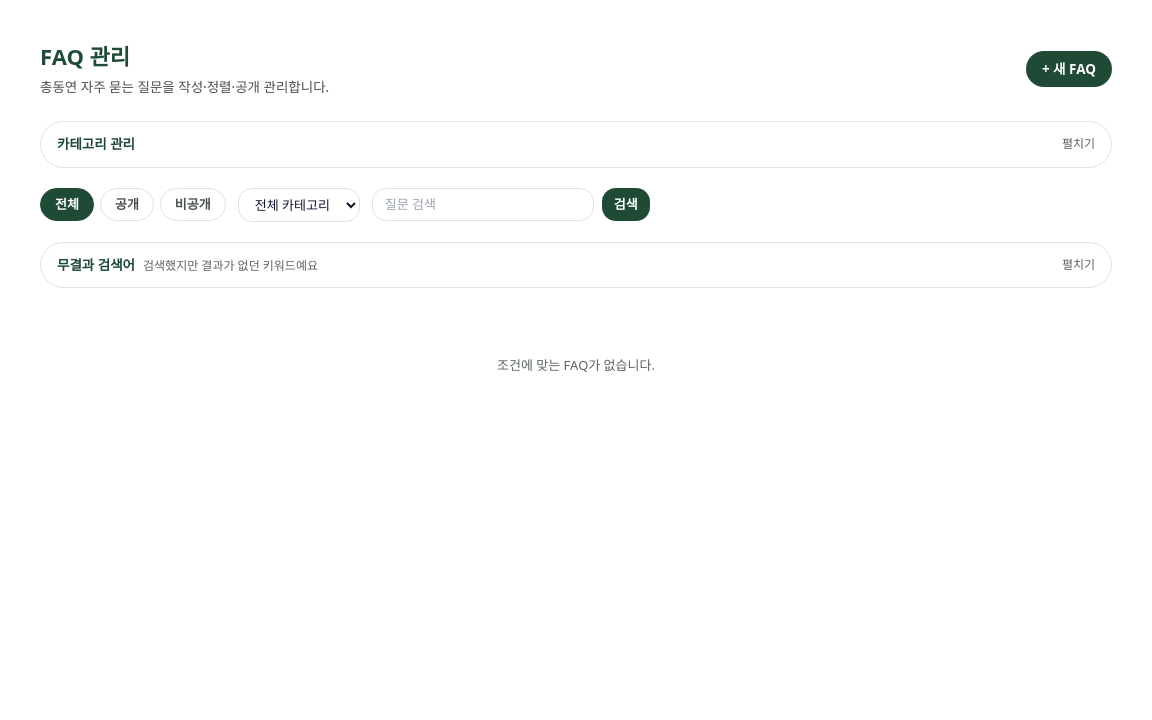
Test: AdminFaqListPage › 카테고리 삭제 › 카테고리 행에 삭제 버튼이 노출되고 클릭하면 삭제 다이얼로그가 열린다
Click the button "카테고리 관리 펼치기" at [96, 144], box [41,122,1111,167]
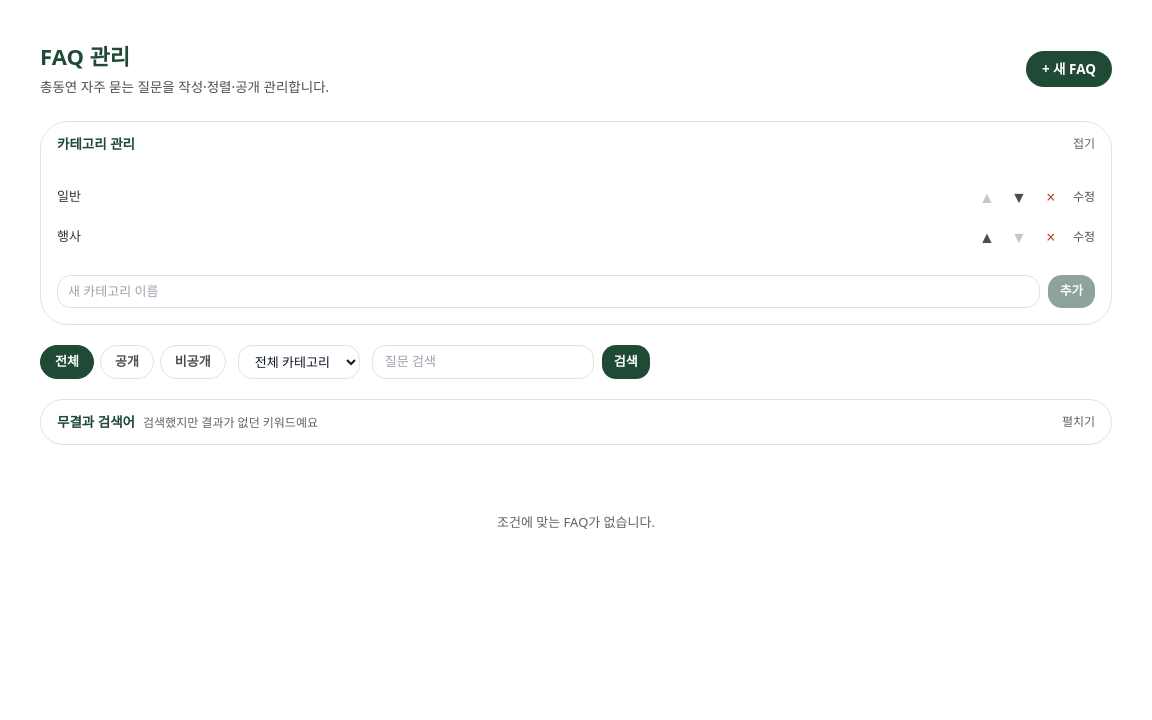
expect the button named "'행사' 카테고리 삭제" is shown: met, box [1037,222,1065,250]
Click the button named "'일반' 카테고리 삭제" at [1051, 196], box [1037,182,1065,210]
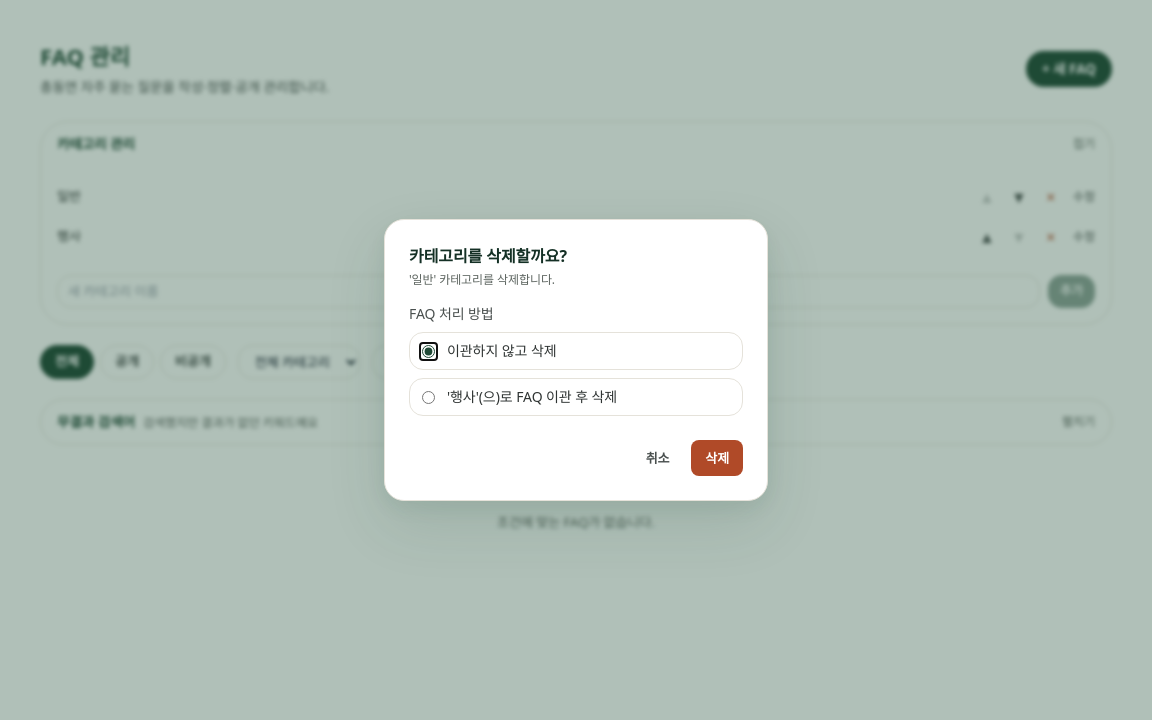
expect the heading "카테고리를 삭제할까요?" is shown: met, box [409,245,567,267]
